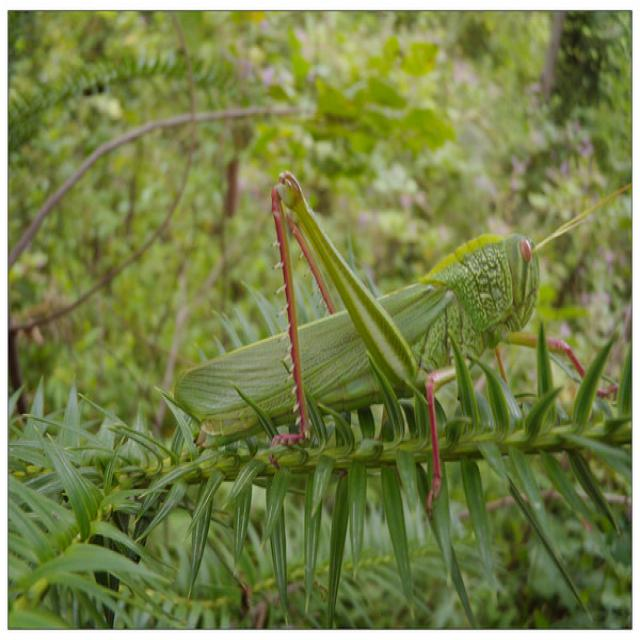ZhaMeng: (109, 166, 586, 446)
